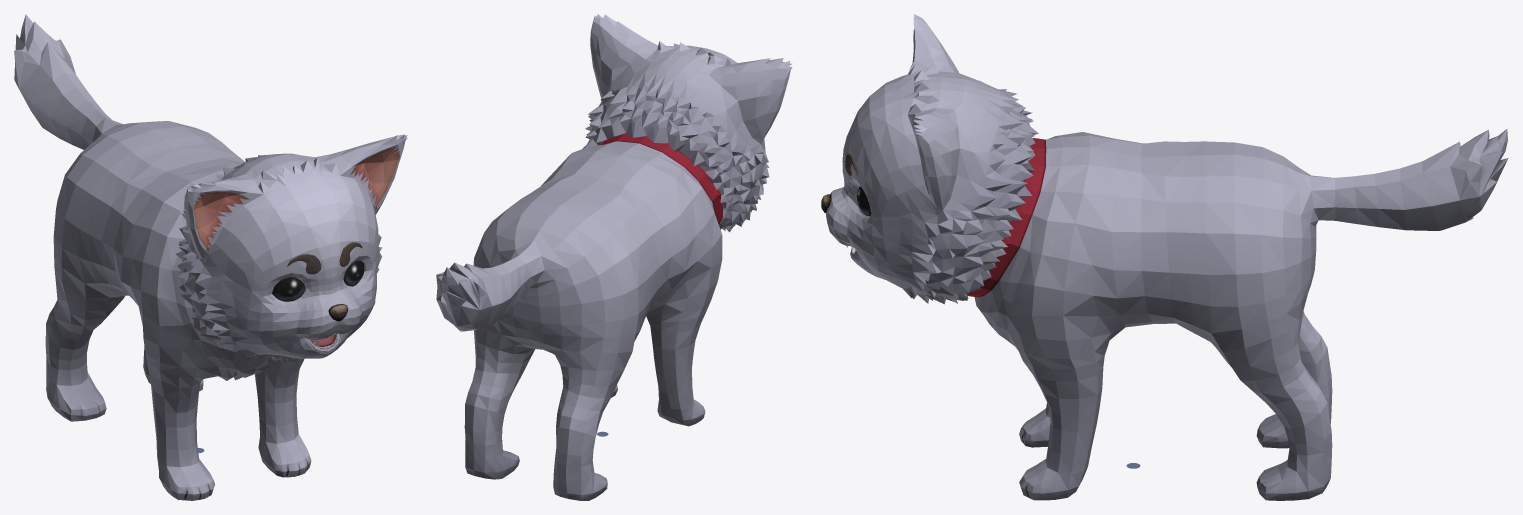
File: sadaharu.glb
3 renders of one model, left to right at view 1: azimuth 30°, elevation 25°; view 2: azimuth 150°, elevation 25°; view 3: azimuth 270°, elevation 25°, orthographic. The views are drawn at different scales.
Parts seen in each view (by area): view 1: Sadaharu.001; view 2: Sadaharu.001; view 3: Sadaharu.001.
Part boxes in pixels (x1=…): Sadaharu.001: x1=14, y1=14, x2=407, y2=500; Sadaharu.001: x1=436, y1=14, x2=792, y2=500; Sadaharu.001: x1=821, y1=14, x2=1508, y2=500.
Bounding box in the file's own units: 1.44 × 2.3 × 3.61.
2 materials, 1 textured.
